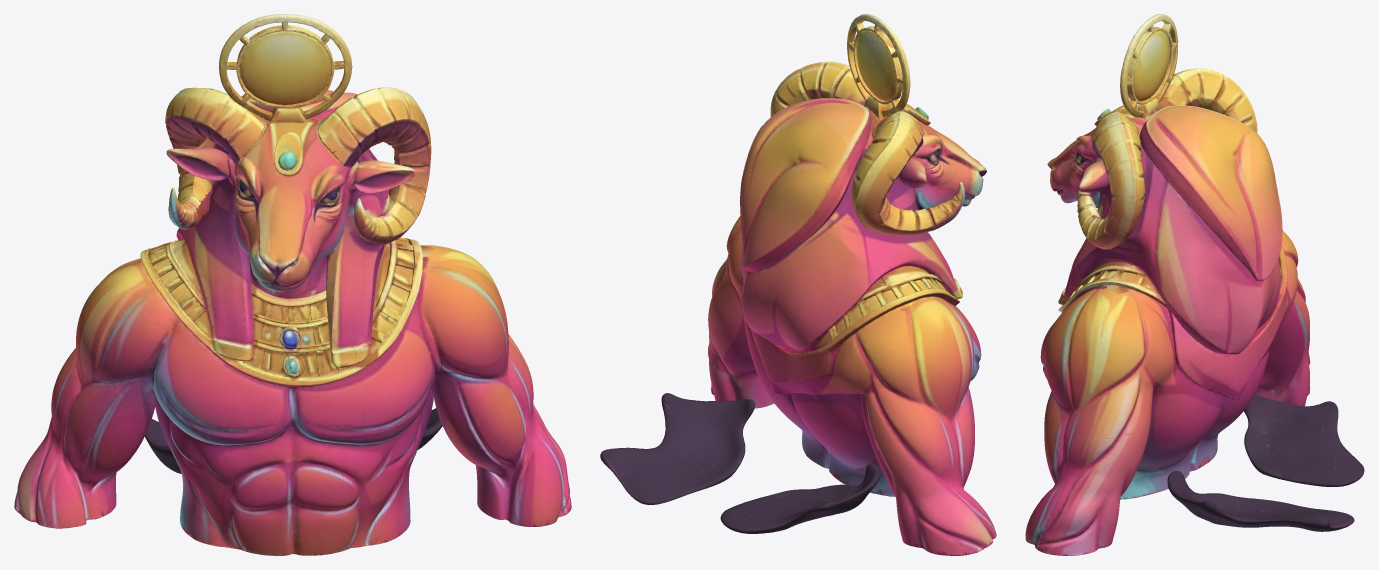
File: landingStatue.glb
3 views of the same model, side by side, from view 1: azimuth 30°, elevation 25°; view 2: azimuth 150°, elevation 25°; view 3: azimuth 270°, elevation 25° (orthographic). The views are drawn at different scales.
Parts seen in each view (by area): view 1: tmpuc29olndobj; view 2: tmpuc29olndobj; view 3: tmpuc29olndobj.
Boxes of the visible parts, x1,y1,x2,y2 form: tmpuc29olndobj: (14, 14, 571, 555); tmpuc29olndobj: (600, 14, 996, 555); tmpuc29olndobj: (1025, 14, 1364, 555).
Size of the model in its own units: 0.8846 by 1 by 0.7012.
1 material, 1 textured.
